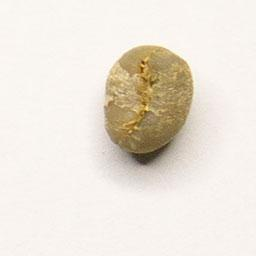peaberry: (98, 41, 197, 158)
